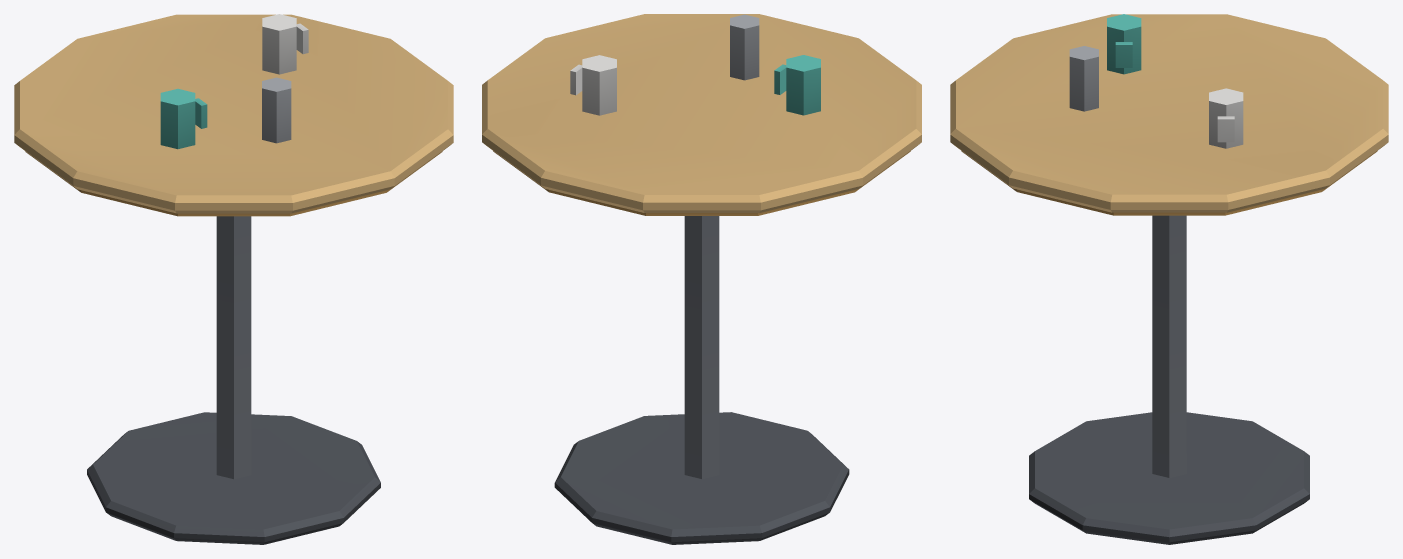
The model's file is table_cafe_01.glb.
3 views of the same model, side by side, from view 1: azimuth 30°, elevation 25°; view 2: azimuth 150°, elevation 25°; view 3: azimuth 270°, elevation 25° (orthographic).
Visible parts, largest first — view 1: table_cafe_01_mesh; view 2: table_cafe_01_mesh; view 3: table_cafe_01_mesh.
Boxes of the visible parts, box(x1,y1,x2,y2) form: table_cafe_01_mesh: box(14, 14, 453, 544); table_cafe_01_mesh: box(482, 14, 921, 544); table_cafe_01_mesh: box(950, 14, 1388, 544).
Bounding box in the file's own units: 0.7727 × 0.84 × 0.7727.
1 material, 1 textured.
